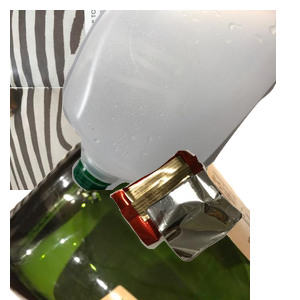glass: (10, 120, 250, 300)
paper: (10, 10, 250, 190)
plastic: (60, 10, 300, 190)
trash: (107, 148, 300, 300)
